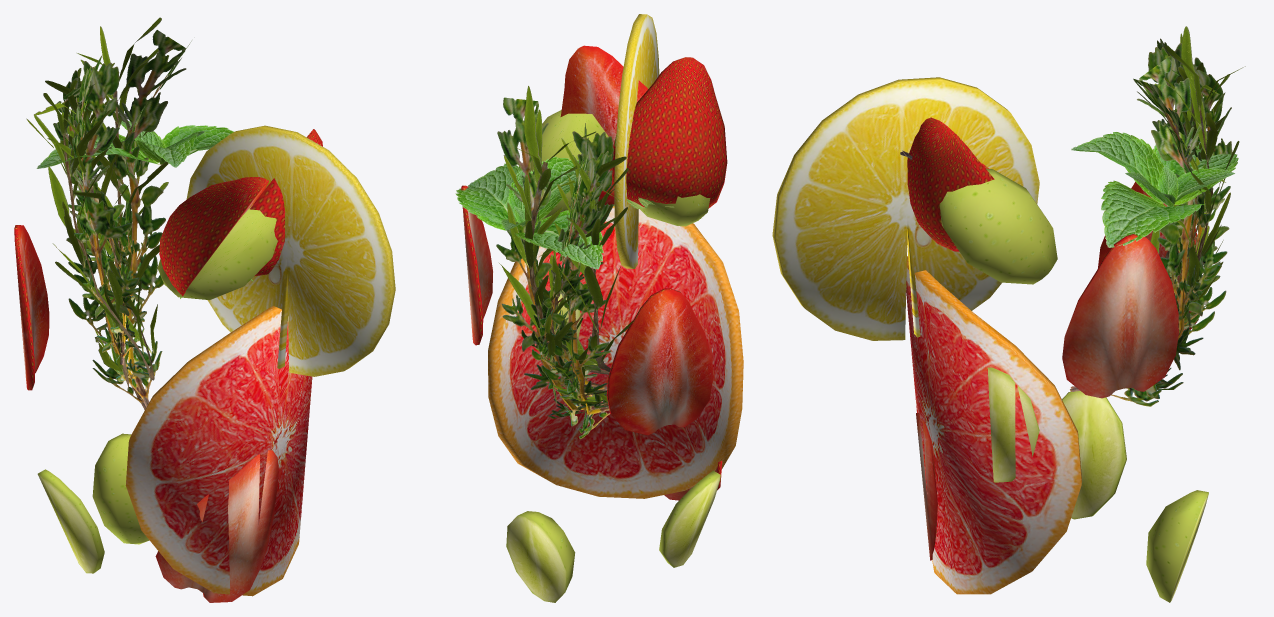
File: Glass Cup_Ade.fbx
3 renders of one model, left to right at view 1: azimuth 30°, elevation 25°; view 2: azimuth 150°, elevation 25°; view 3: azimuth 270°, elevation 25°, orthographic. The views are drawn at different scales.
Visible parts, largest first — view 1: Grapefruit, Lemon, Thyme, Strawberry, Grape, Rosemary, Peppermint; view 2: Grapefruit, Strawberry, Thyme, Grape, Rosemary, Peppermint, Lemon; view 3: Lemon, Grapefruit, Grape, Strawberry, Thyme, Peppermint, Rosemary.
Part boxes in pixels (x1,y1,x2,y2): Grapefruit: (125,306,312,596); Lemon: (186,125,395,376); Thyme: (53,30,191,409); Strawberry: (14,129,322,602); Grape: (37,205,277,573); Rosemary: (26,17,168,389); Peppermint: (36,121,234,168); Grapefruit: (488,206,743,498); Strawberry: (461,45,727,500); Thyme: (496,97,613,438); Grape: (506,110,720,602); Rosemary: (499,86,632,404); Peppermint: (455,156,603,269); Lemon: (614,14,659,268); Lemon: (772,77,1039,340); Grapefruit: (906,256,1081,594); Grape: (900,150,1208,602); Strawberry: (907,117,1198,560); Thyme: (1070,38,1232,406); Peppermint: (1071,132,1238,247); Rosemary: (1150,26,1245,346).
Size of the model in its own units: 0.0705 by 0.1004 by 0.1296.
